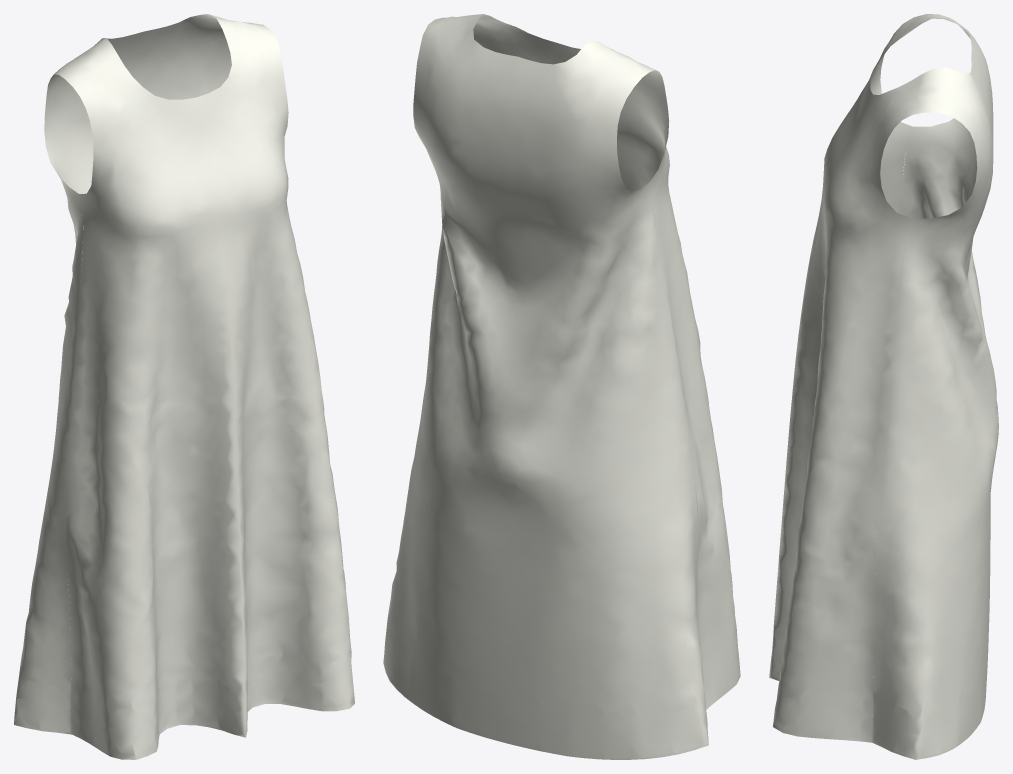
The model's file is knit.obj.
The picture shows the model from 3 angles, left to right: view 1: azimuth 30°, elevation 25°; view 2: azimuth 150°, elevation 25°; view 3: azimuth 270°, elevation 25°; orthographic projection. The views are drawn at different scales.
Bounding box in the file's own units: 464 × 941 × 299.
1 material, 1 textured.
